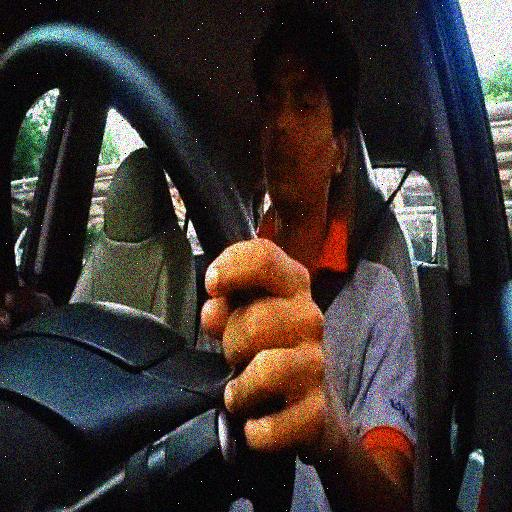sleepy: (249, 7, 356, 225)
